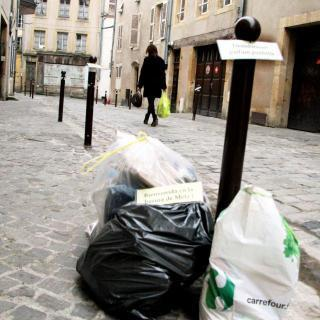Garbage: (74, 186, 216, 320), (195, 181, 319, 320), (79, 126, 204, 242)
